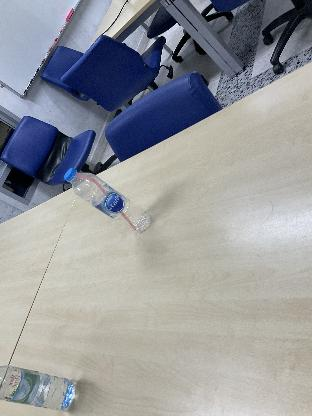Plastic Bottle: (63, 165, 153, 235), (0, 365, 78, 413)
